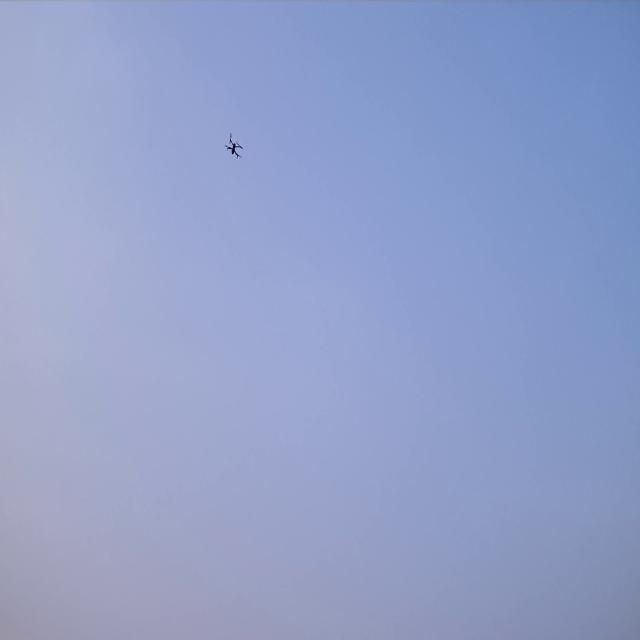UAV: (223, 132, 244, 160)
